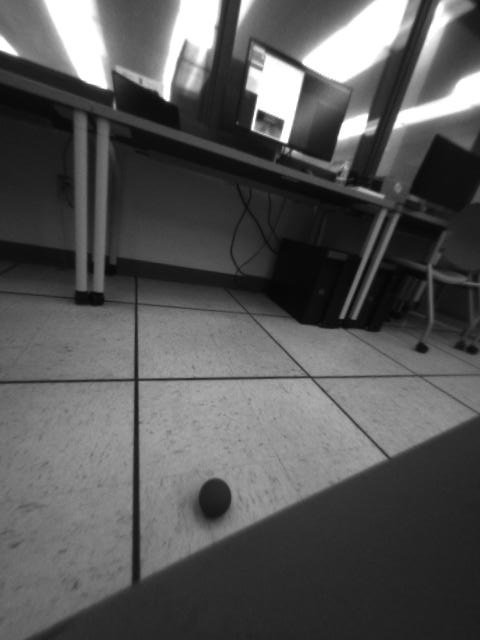dogtoy: (190, 469, 238, 527)
